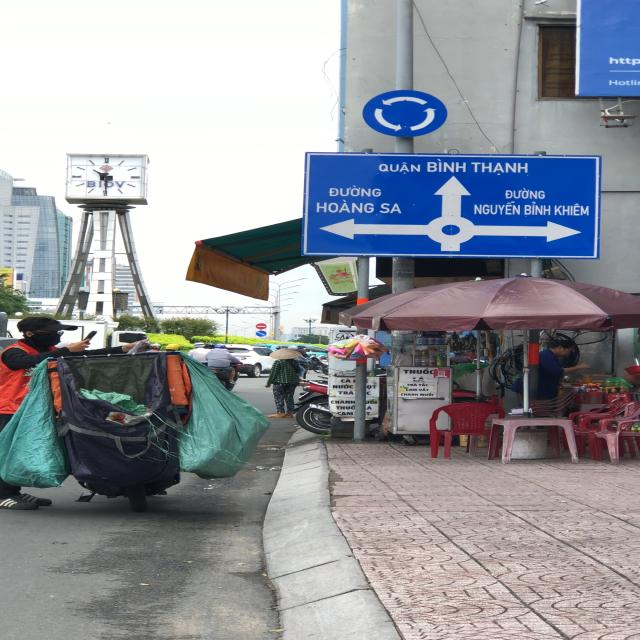Bien bao noi giao nhau chay theo vong xuyen: (358, 87, 456, 140)
